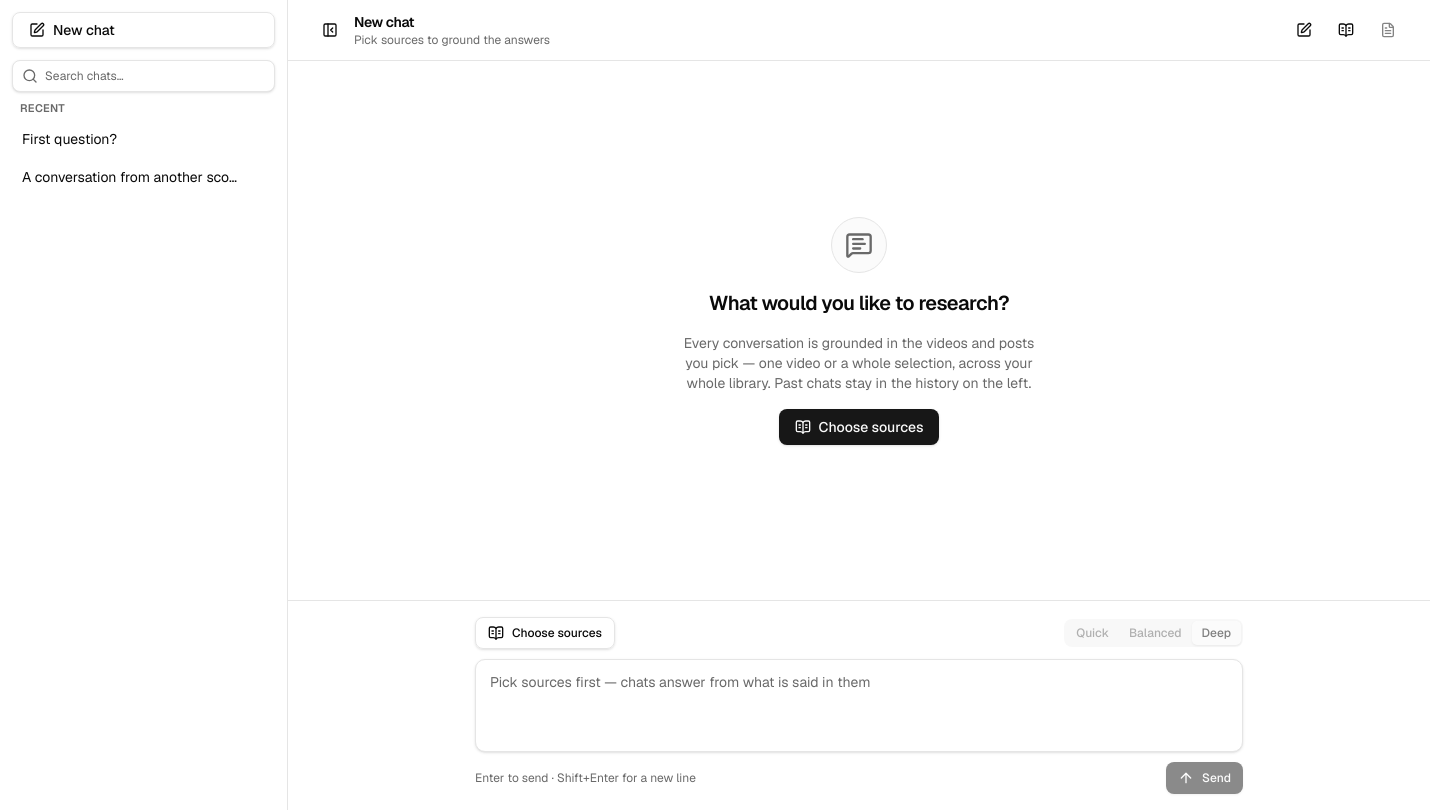
ChatWorkspace — picking sources for a fresh chat › narrows source groups with category filters
What coordinates should you click on to do the following:
click the button "Choose sources" below "What would you like to research?"
I would click on:
 (859, 426)
Its box is x1=778 y1=408 x2=939 y2=444.
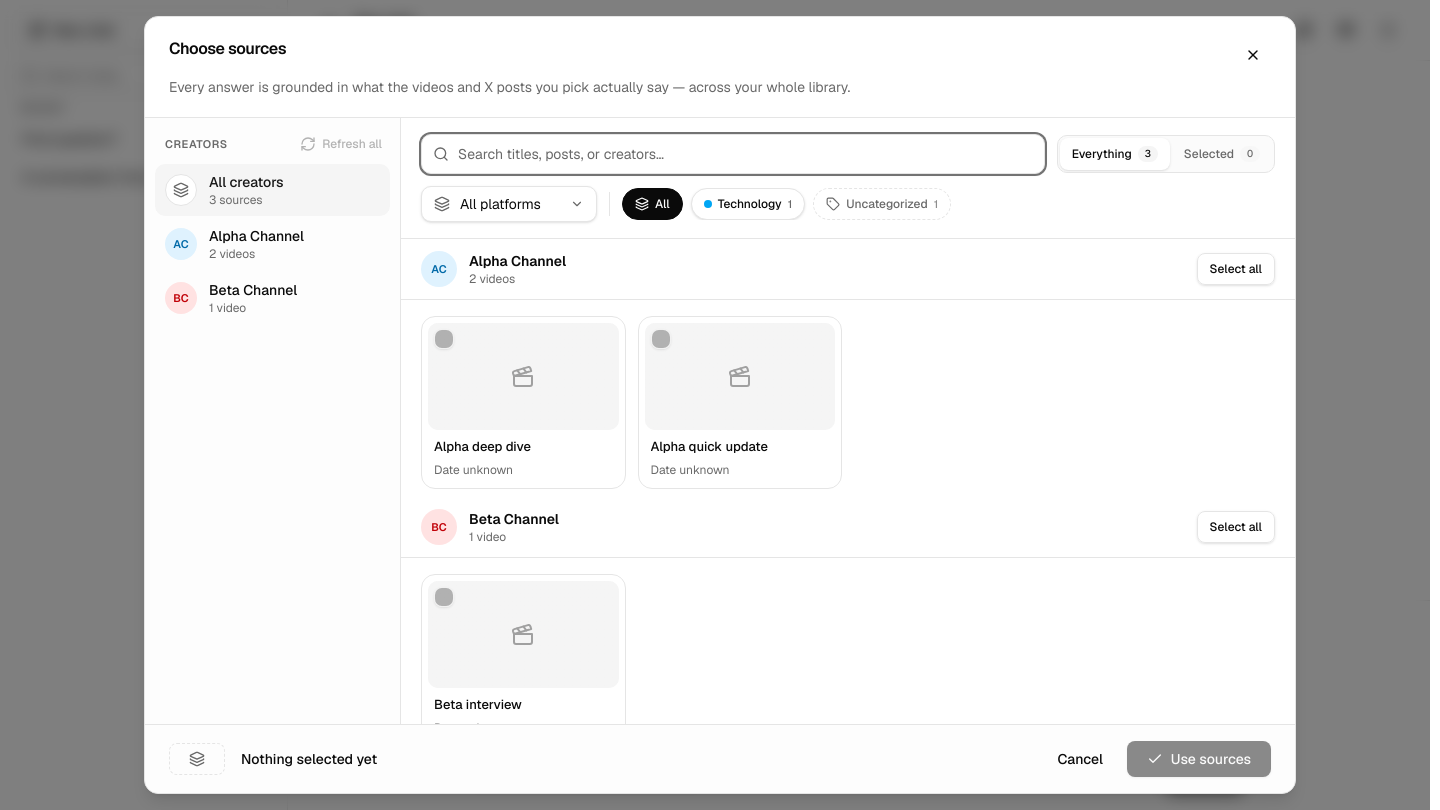
What coordinates should you click on to do the following:
click the button "Technology 1"
I would click on:
 (748, 204)
Its box is x1=691 y1=188 x2=805 y2=220.
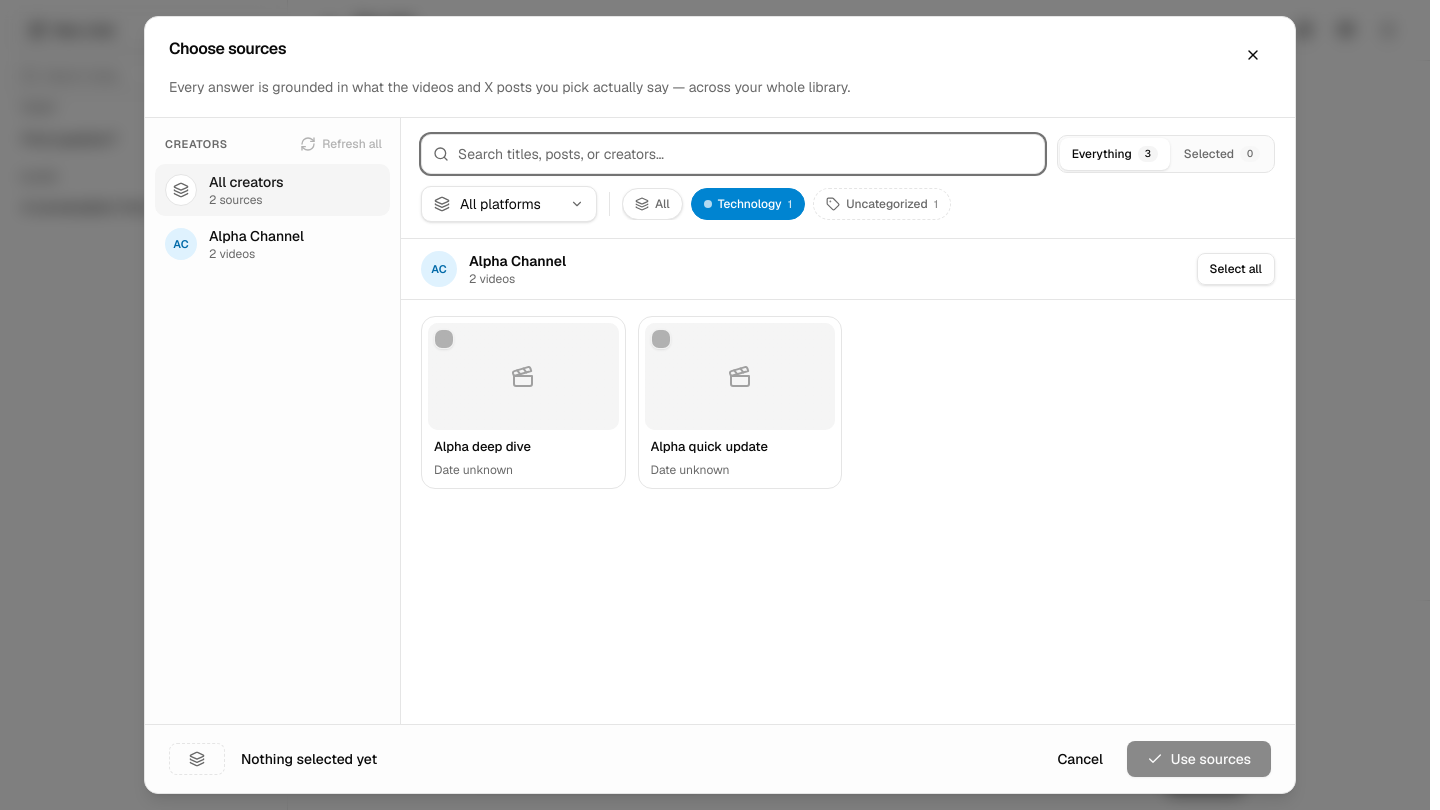
Check: the element "Alpha Channel" is shown, box x1=401 y1=239 x2=1295 y2=497
Check: the button "Beta Channel" is gone
What coordinates should you click on to do the following:
click the button "All"
I would click on:
 (652, 204)
Its box is x1=622 y1=188 x2=683 y2=220.
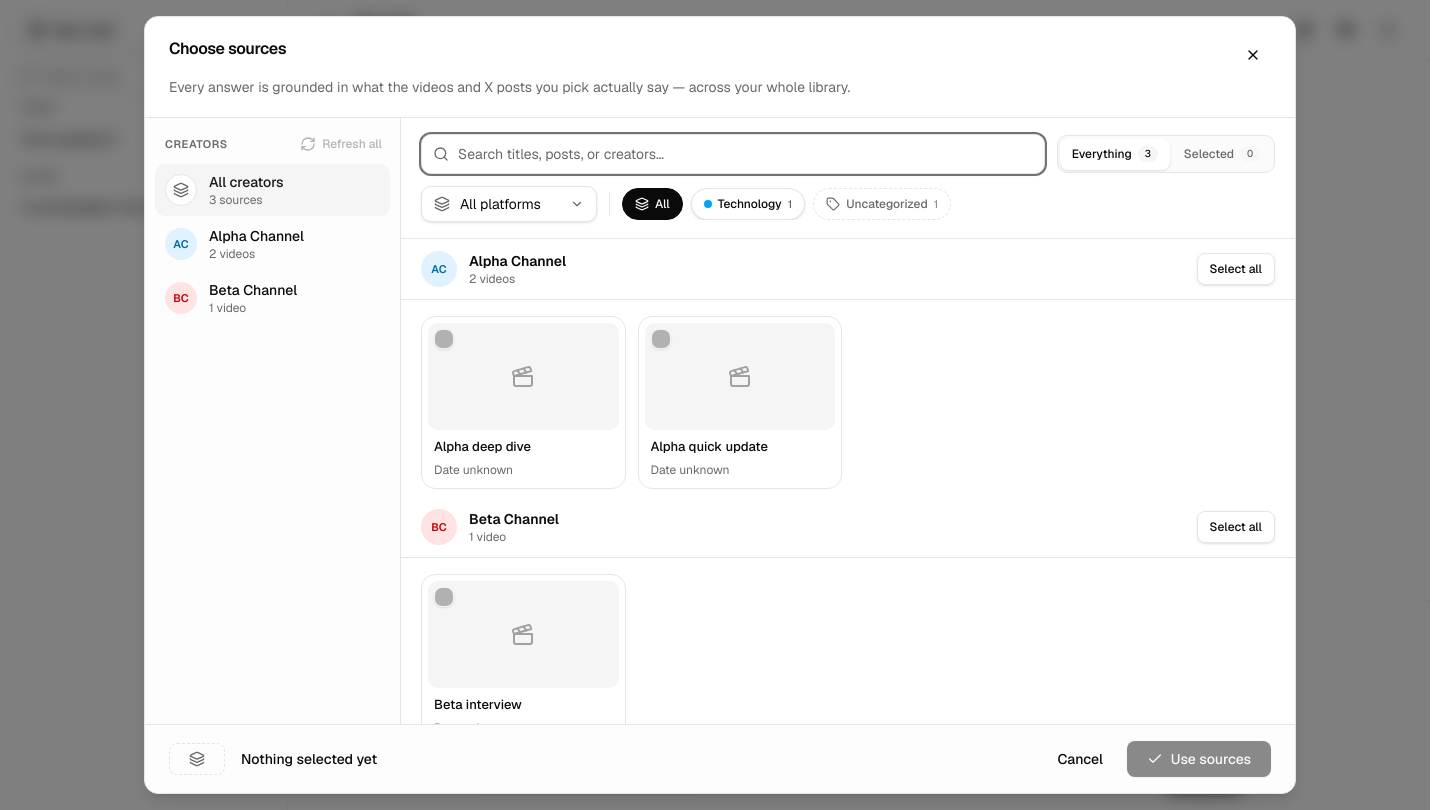
Check: the element "Beta Channel" is shown, box x1=401 y1=497 x2=1295 y2=724
